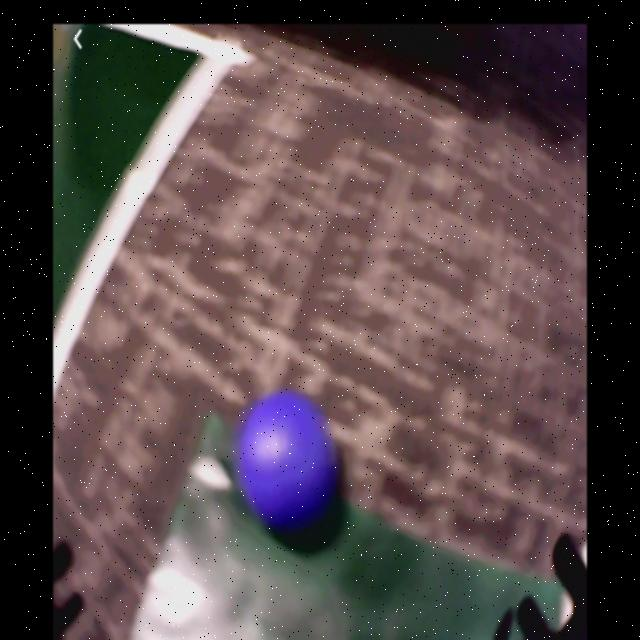ball: (239, 391, 342, 540)
